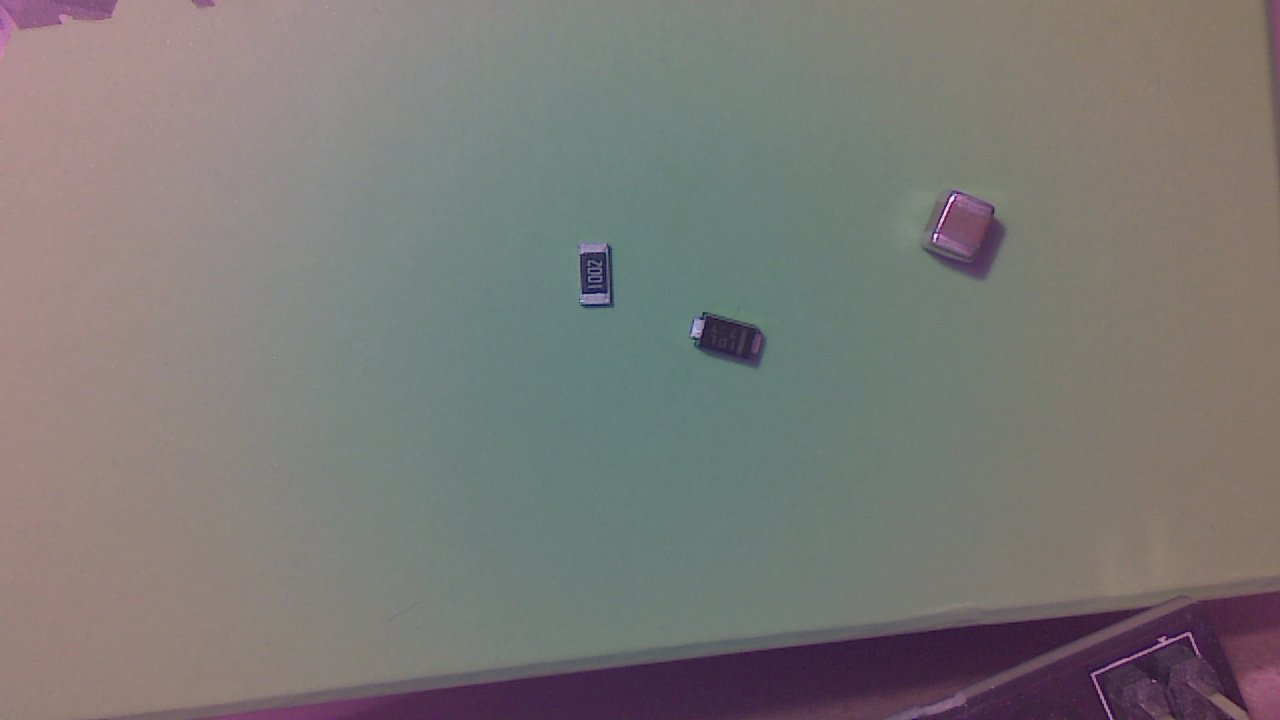Condensator: (927, 196, 1005, 273)
Diode: (695, 315, 773, 370)
Resistor: (581, 247, 620, 315)
